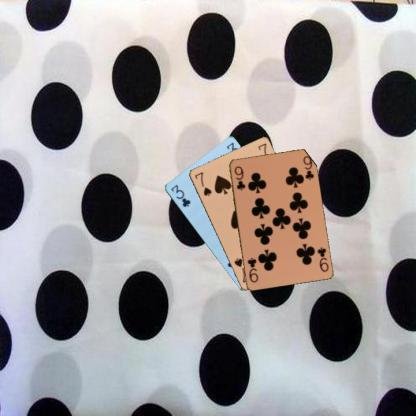3c: (168, 182, 192, 209)
7s: (192, 169, 212, 198)
9c: (314, 244, 330, 273), (232, 164, 246, 191)
